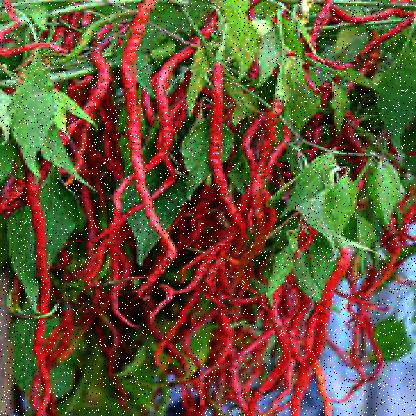chili: (276, 250, 366, 394), (114, 5, 160, 193), (202, 61, 238, 231), (24, 176, 46, 414)
